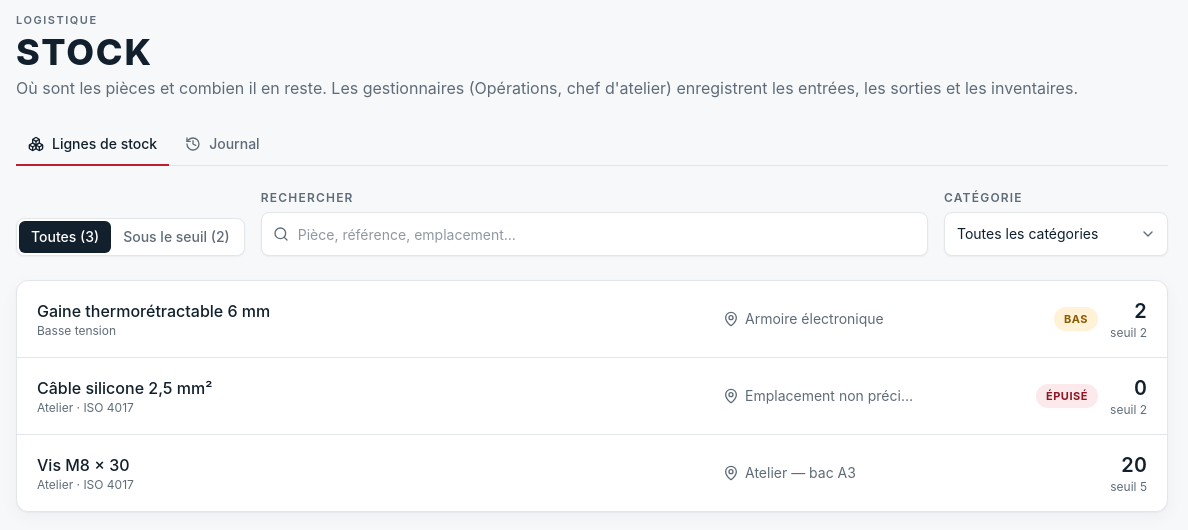
Test: StockPage › shows the low lines only, searches without accents and filters by category
Click the button "Sous le seuil (2)" at (176, 237), box [111,221,242,253]
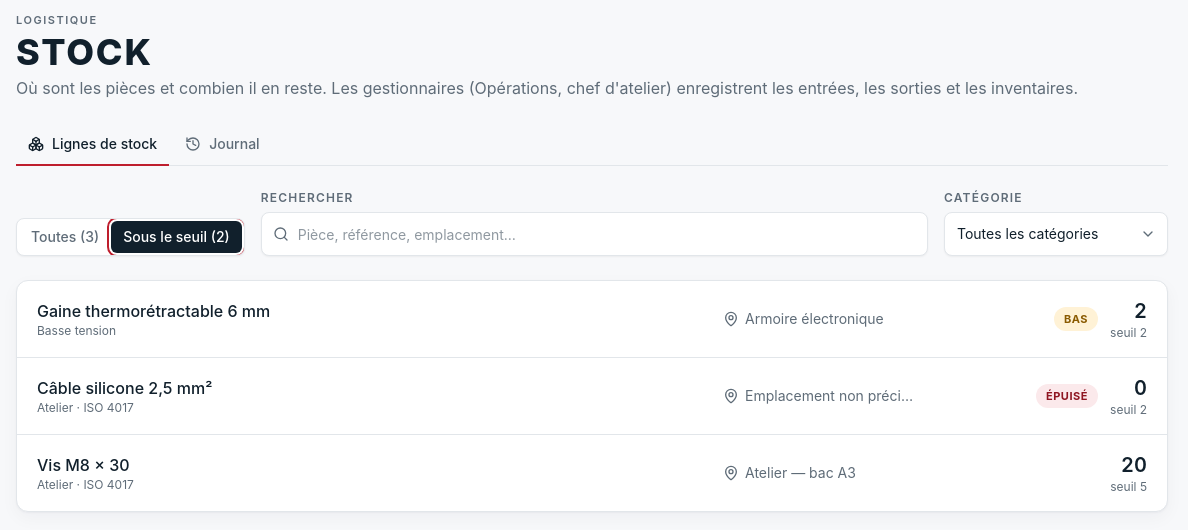
Click the button "Toutes (3)" at (65, 237), box [19,221,111,253]
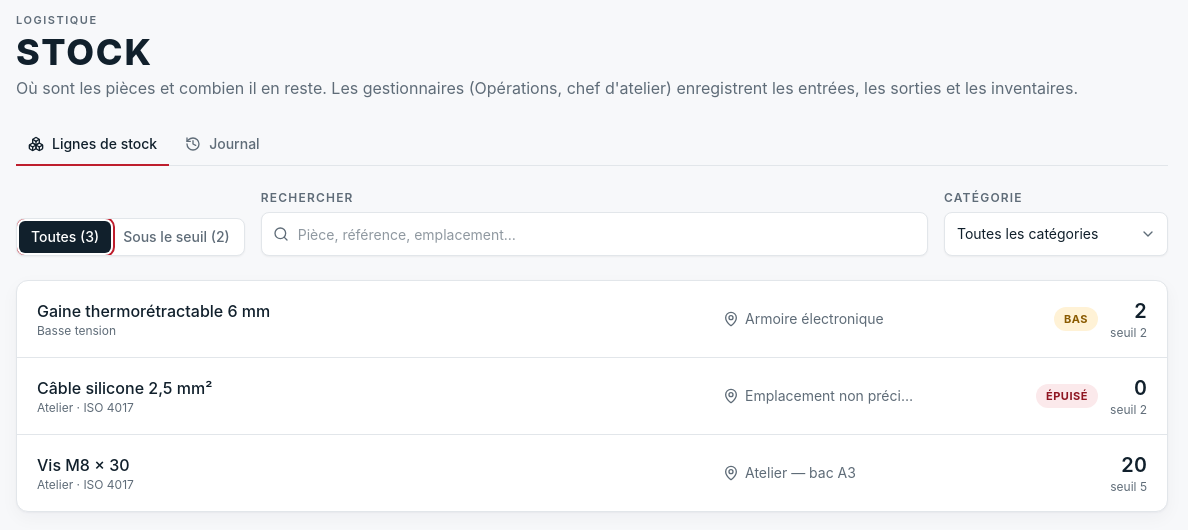
Type "gaine thermo" into the search field labelled "Rechercher" at (594, 234), box [261,212,928,256]
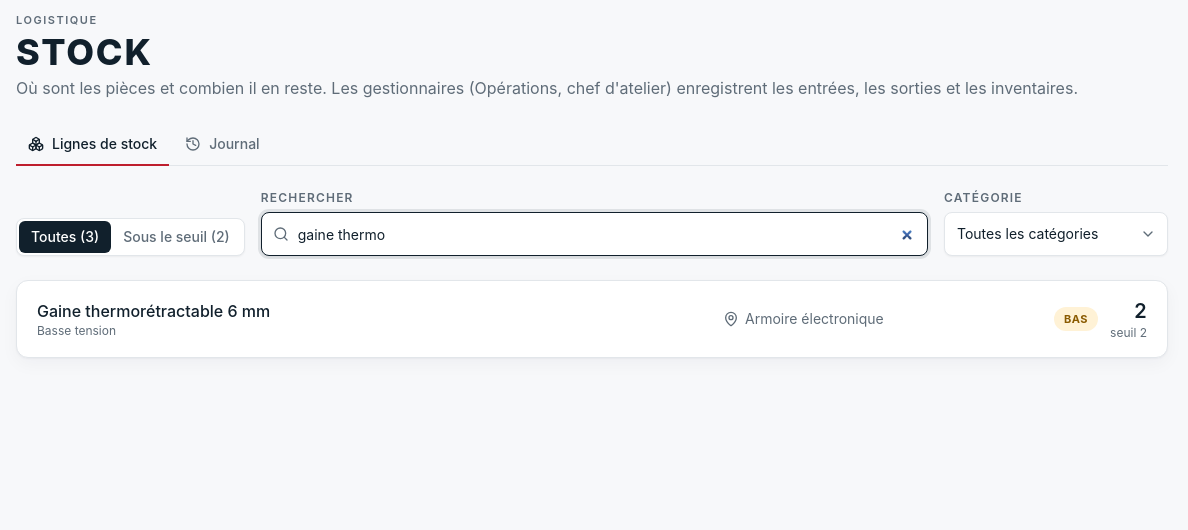
expect the link "Vis M8 × 30" is gone: met
Clear the search field labelled "Rechercher" at (594, 234), box [261,212,928,256]
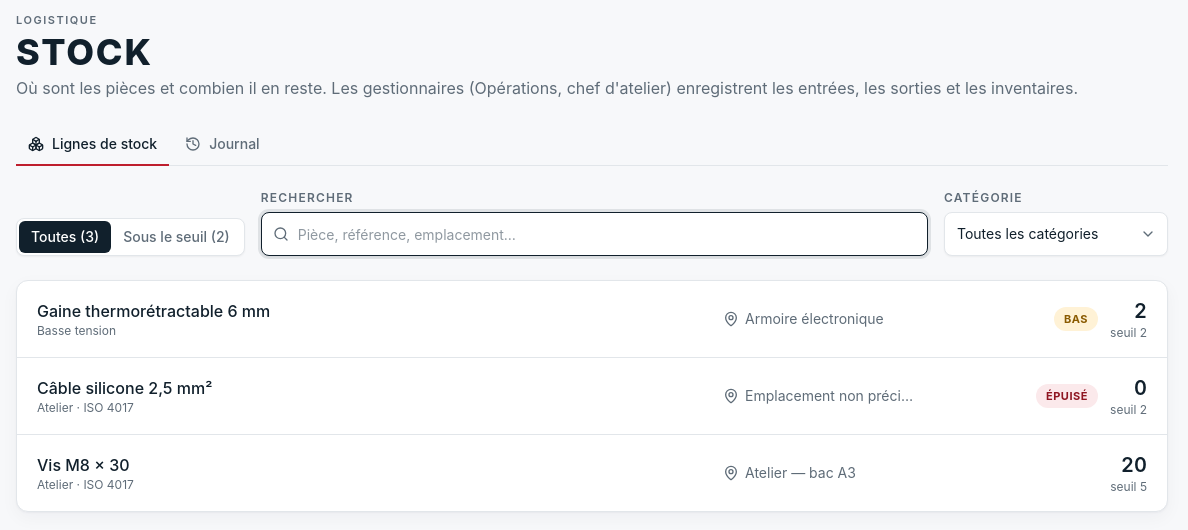
Select "Atelier" in the dropdown labelled "Catégorie" at (1056, 234), box [944,212,1168,256]
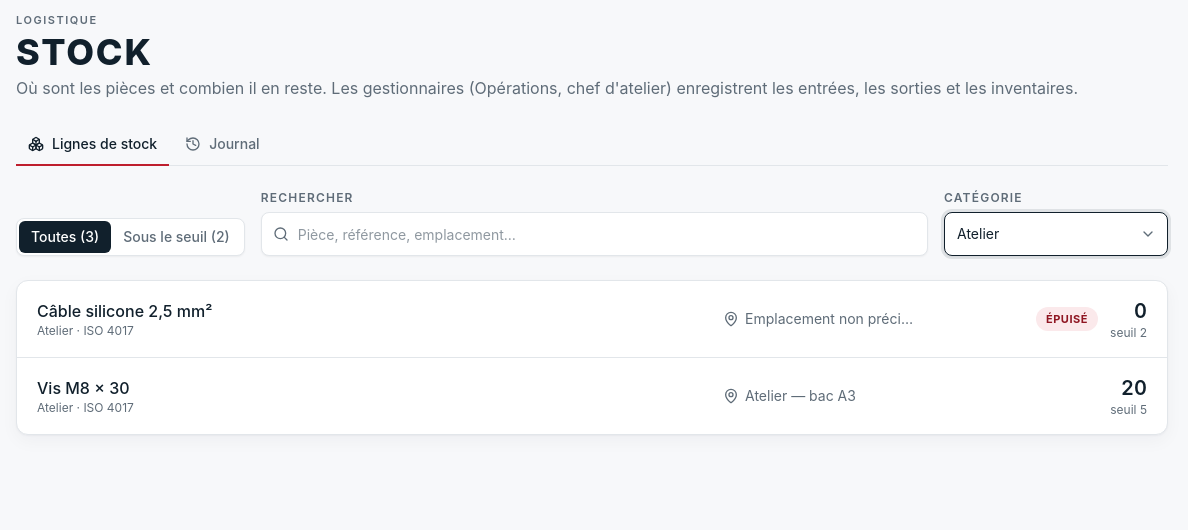
expect the link "Vis M8 × 30" is shown: met, box [37,378,130,398]
expect the link "Gaine thermorétractable 6 mm" is gone: met
